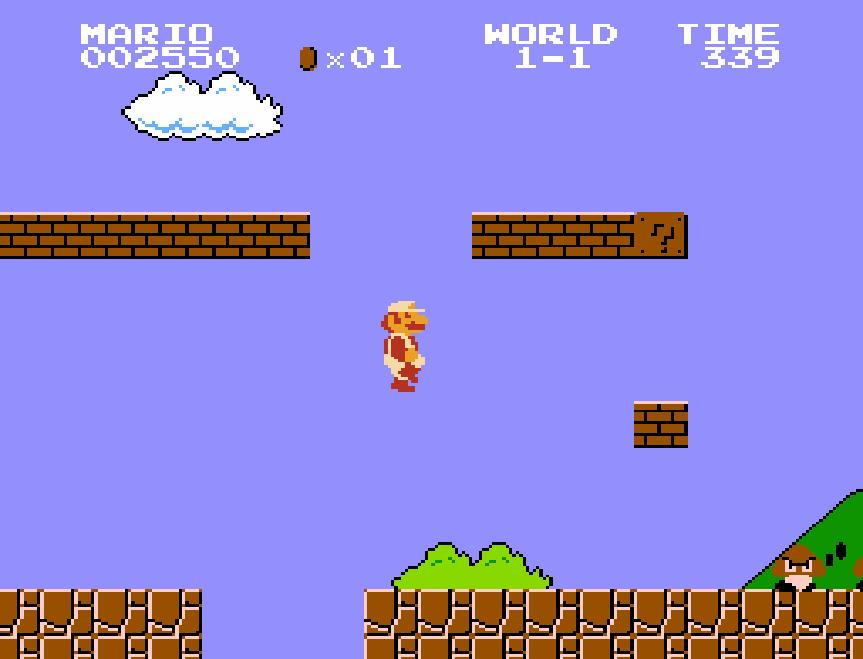fire_mario: (376, 295, 434, 394)
